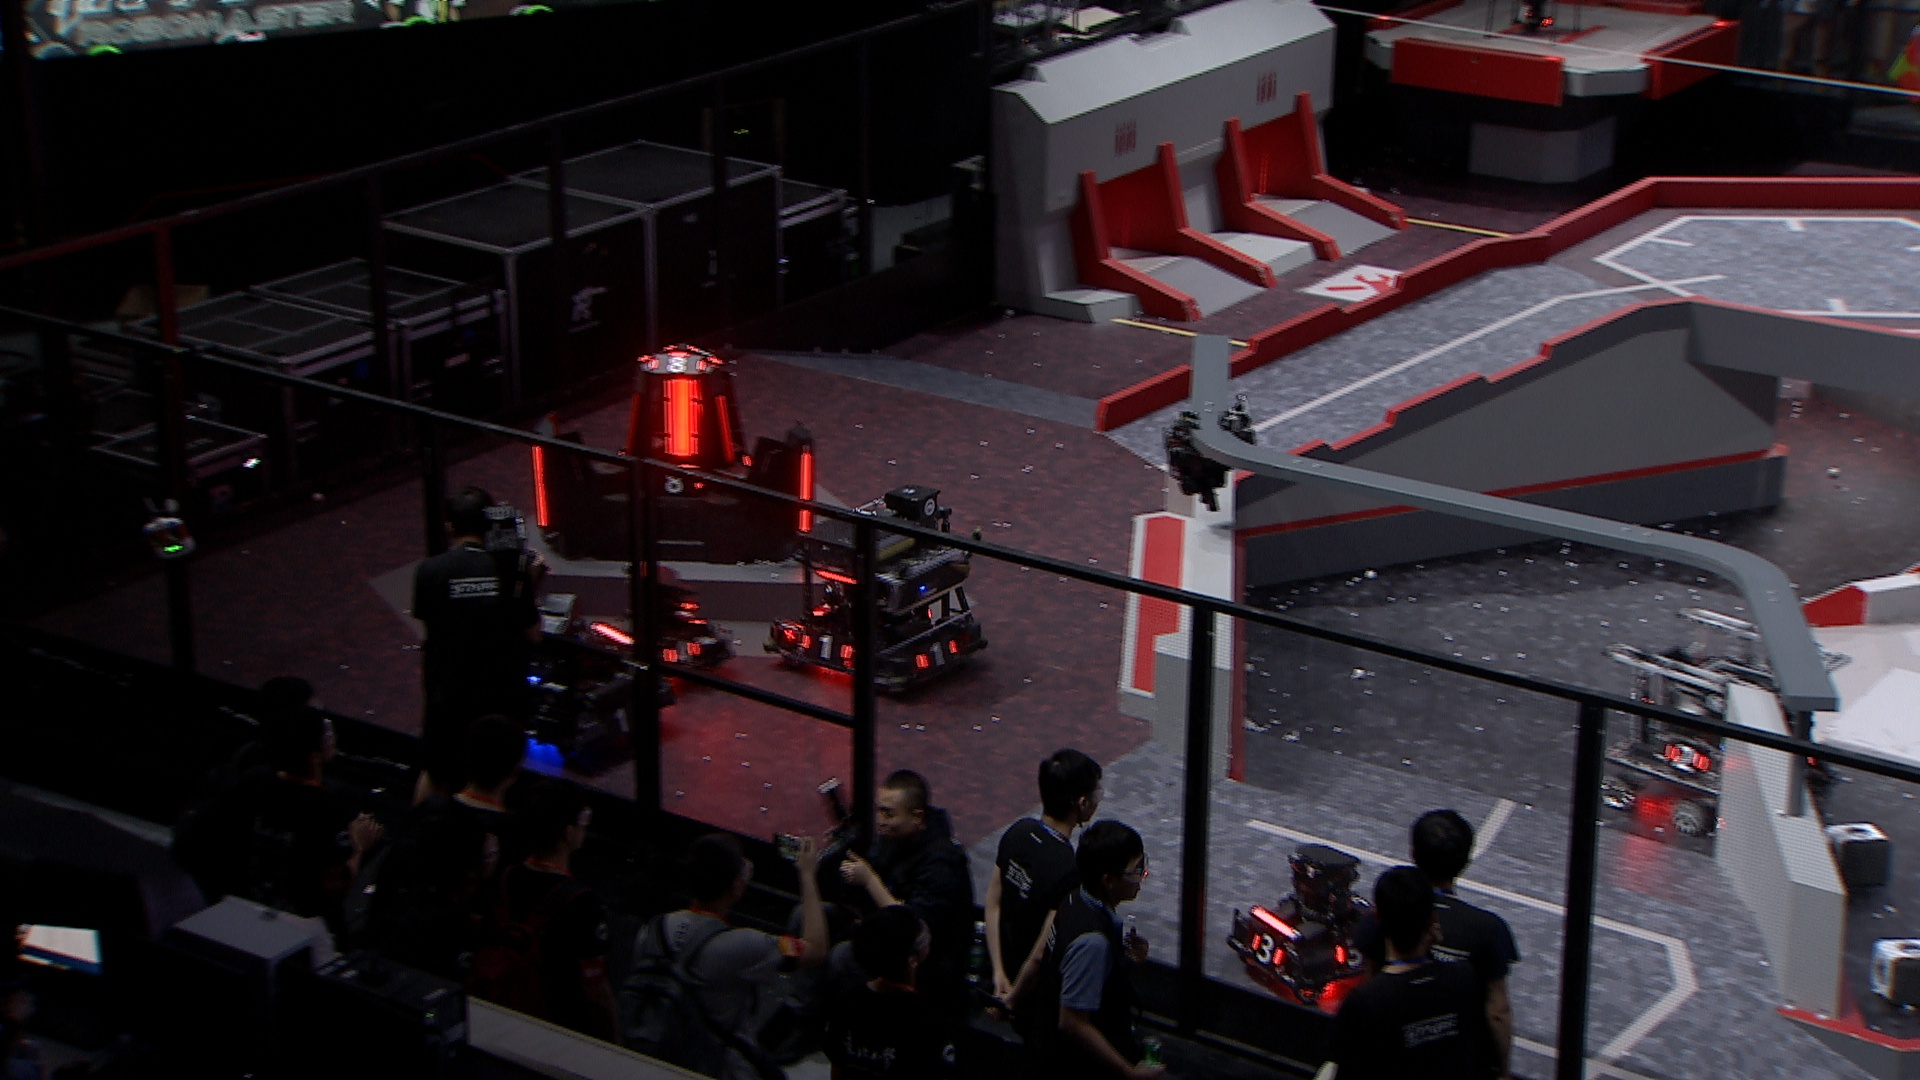armor: (659, 377, 708, 458), (799, 633, 858, 665), (618, 390, 644, 463), (531, 443, 553, 527), (713, 396, 738, 463), (798, 451, 818, 533), (1247, 932, 1288, 969), (916, 638, 961, 671), (1665, 746, 1712, 775), (647, 356, 707, 376), (1333, 938, 1365, 972), (608, 702, 638, 736), (659, 473, 704, 496), (665, 638, 700, 665), (675, 608, 708, 628)
base: (522, 344, 825, 570)
car: (1593, 604, 1854, 835), (760, 480, 988, 688), (469, 593, 671, 770), (1221, 840, 1394, 1005), (600, 564, 733, 680)
watcher: (1166, 400, 1261, 509)
